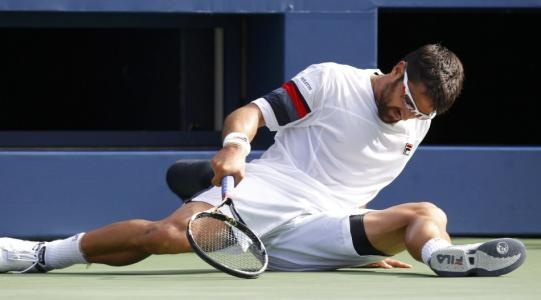falling: (4, 39, 491, 264)
